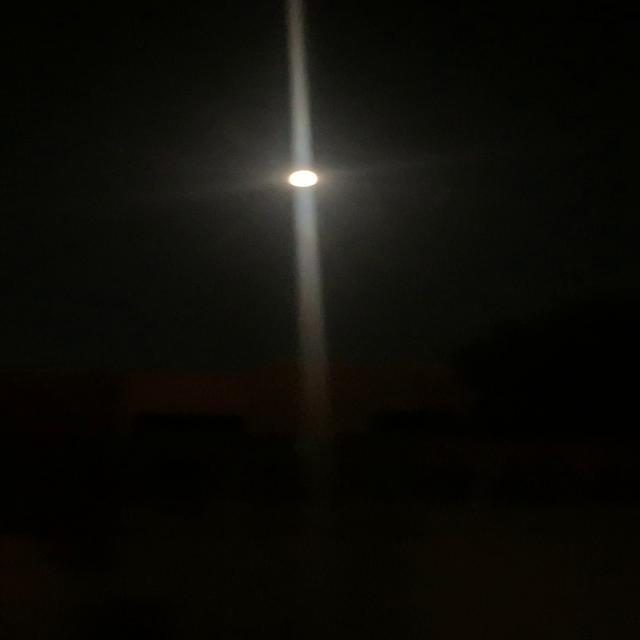moon: (271, 160, 335, 193)
